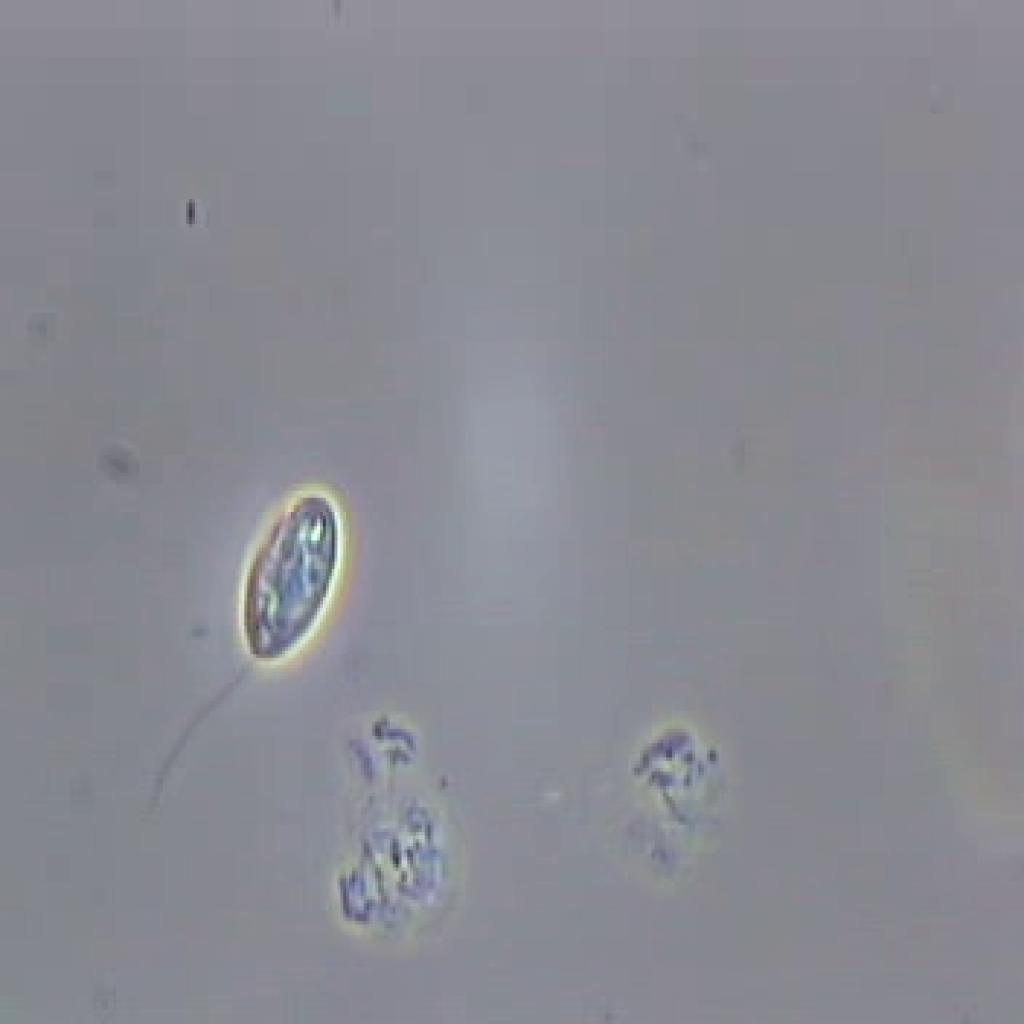Flagellates: (136, 454, 354, 812)
